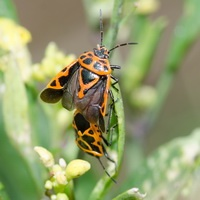insect: (40, 12, 136, 181)
